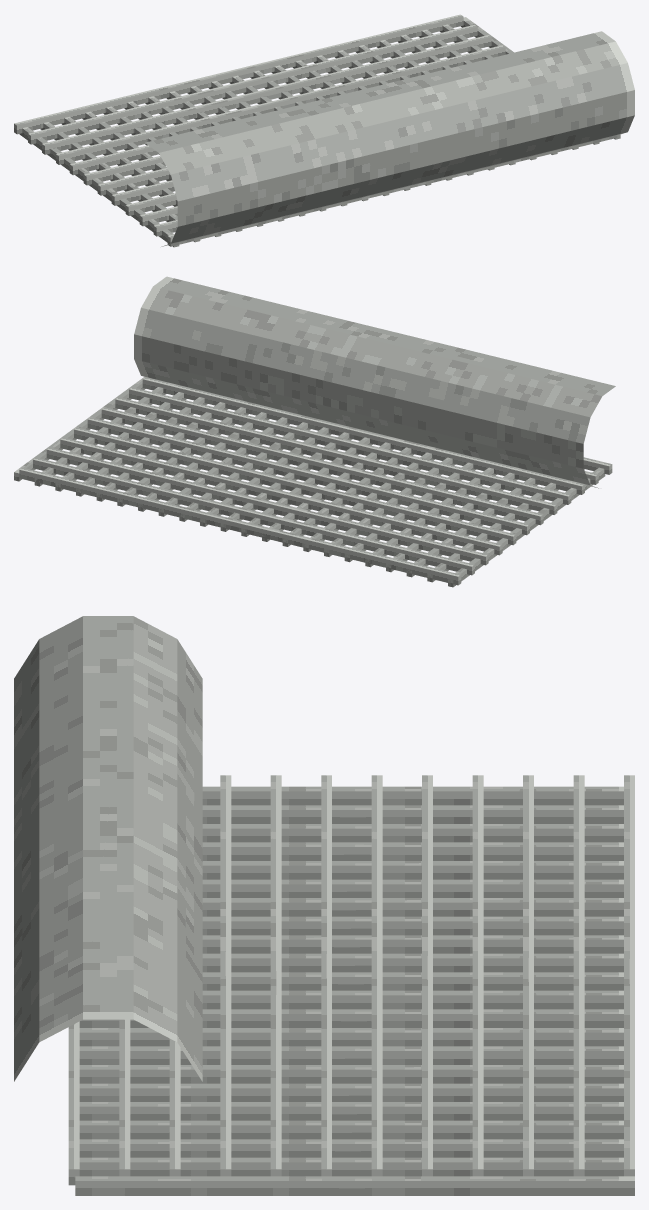
The model's file is screen_mesh.glb.
3 renders of one model, top to bottom at view 1: azimuth 30°, elevation 25°; view 2: azimuth 150°, elevation 25°; view 3: azimuth 270°, elevation 25°, orthographic. The views are drawn at different scales.
Parts seen in each view (by area): view 1: block_rolled screen, block_mesh warp (×11), block_mesh weft (×5); view 2: block_rolled screen, block_mesh warp (×10), block_mesh weft (×22); view 3: block_mesh weft (×22), block_rolled screen, block_mesh warp (×12).
Part boxes in pixels (bbox=[...]): block_rolled screen: bbox=[145, 31, 634, 246]; block_mesh warp (×11): bbox=[14, 14, 617, 246]; block_mesh weft (×5): bbox=[19, 17, 620, 247]; block_rolled screen: bbox=[134, 276, 615, 488]; block_mesh warp (×10): bbox=[19, 377, 584, 585]; block_mesh weft (×22): bbox=[14, 377, 605, 587]; block_mesh weft (×22): bbox=[75, 786, 634, 1195]; block_rolled screen: bbox=[14, 616, 202, 1081]; block_mesh warp (×12): bbox=[68, 775, 634, 1185].
Bounding box in the file's own units: 0.188 × 0.0376 × 0.1216.
1 material, 1 textured.
